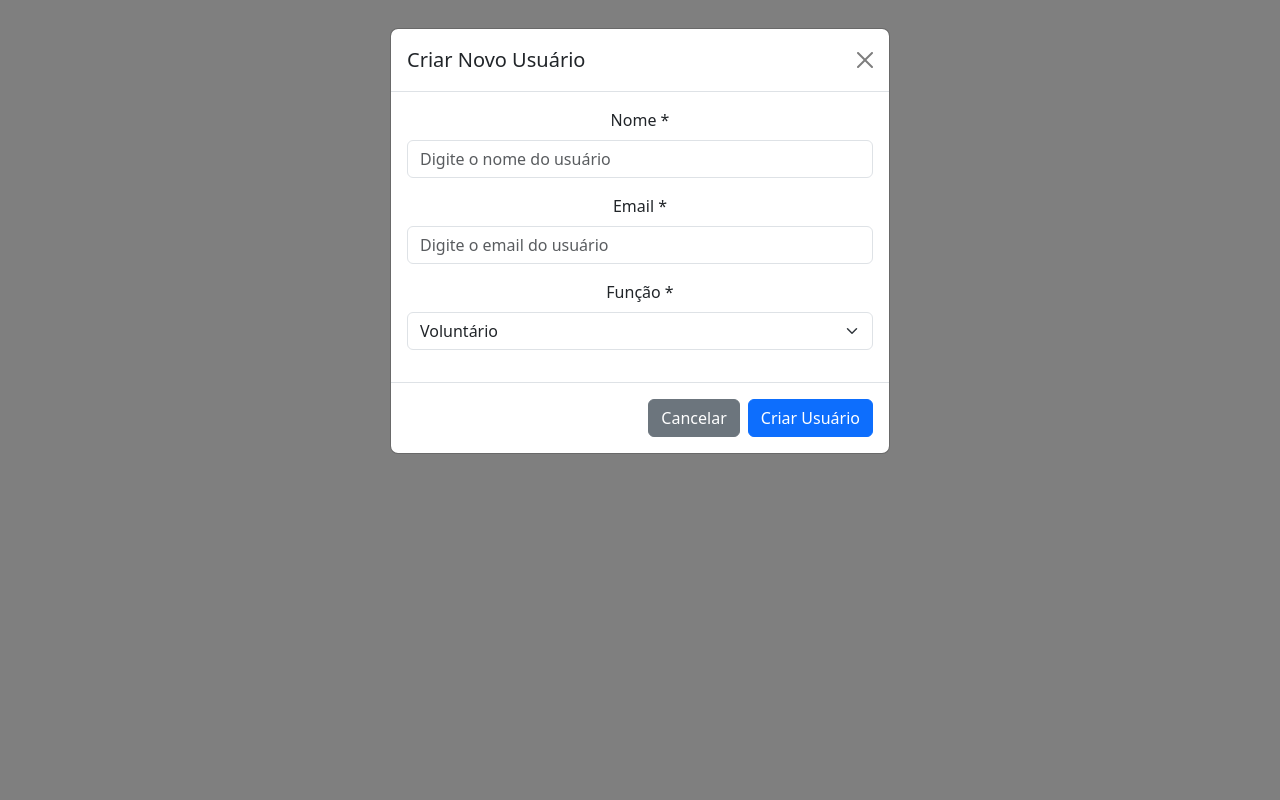
UserFormModal › Form validation › should show name error when name is empty
The width and height of the screenshot is (1280, 800).
Click the button with test id "modal-submit-button": coordinates (810, 418) [748,399,873,437]
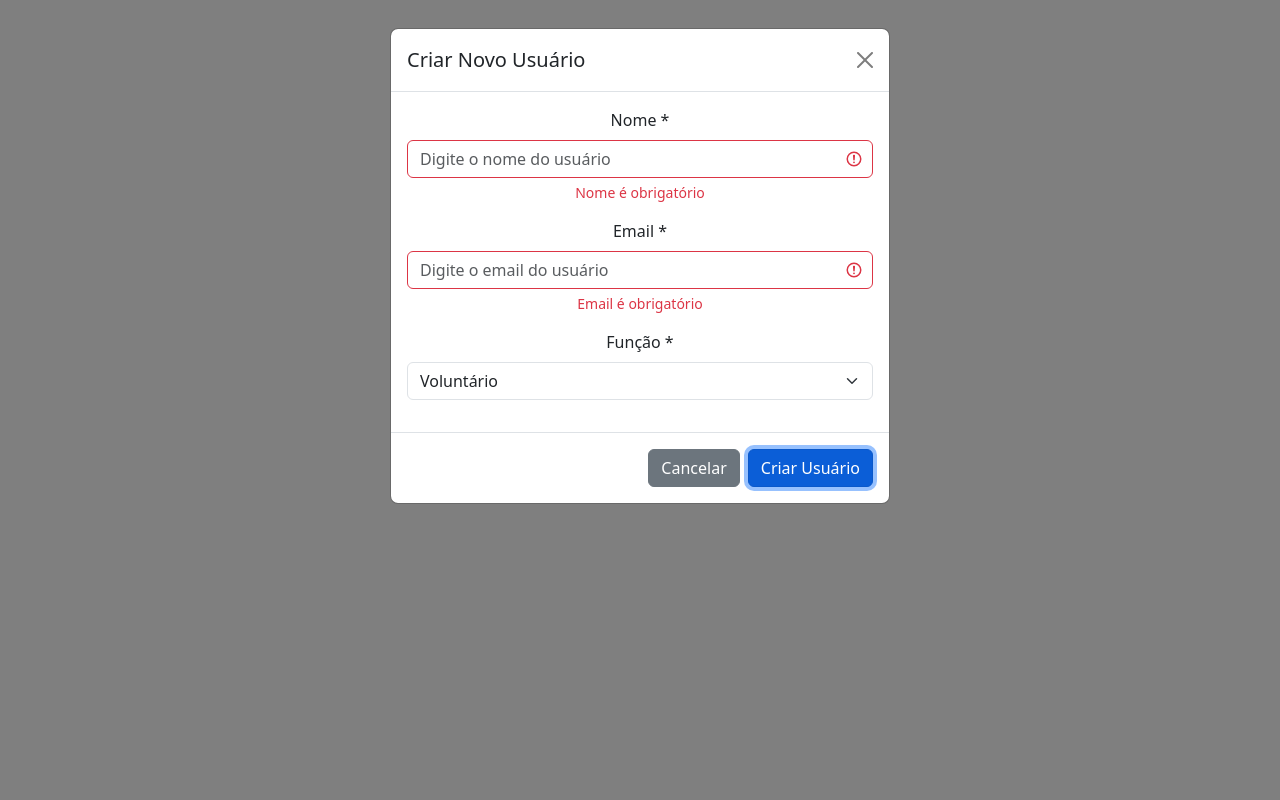
Expected: the text with test id "name-error" reads "Nome é obrigatório", [575,183,705,202]
